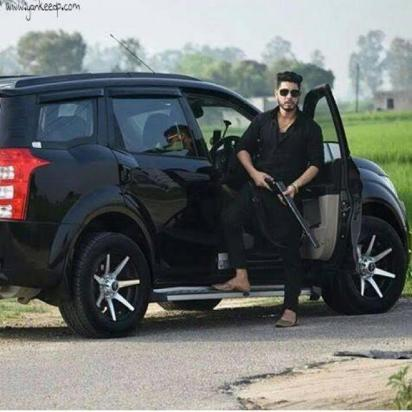Gun: (249, 176, 321, 251)
